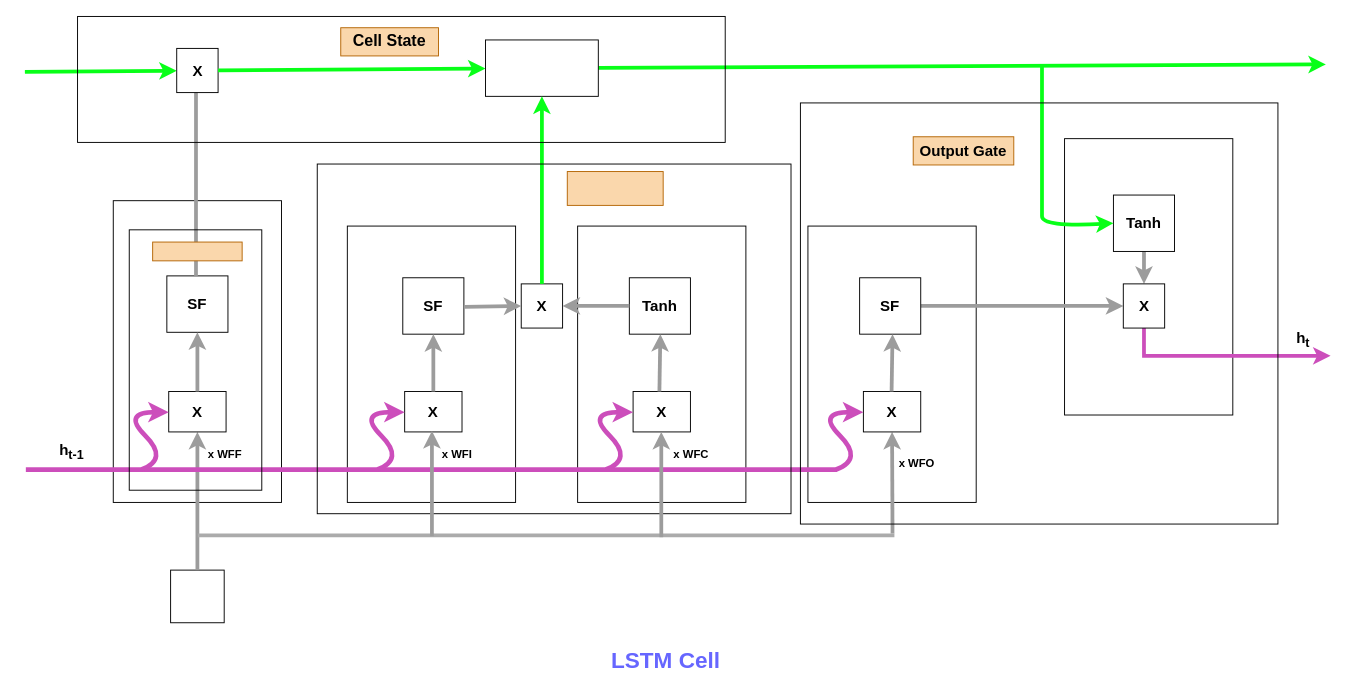
The diagram is 1355 pixels wide and 692 high, and some of its shapes have lost their labels. The shapes that lost their labels are listed below. From the top down, each one's centre as x and y in pixels, then its label:
At pixel 541 67: "SUM".
At pixel 614 188: "Input Gate".
At pixel 197 251: "Forget Gate".
At pixel 197 596: "Input".
